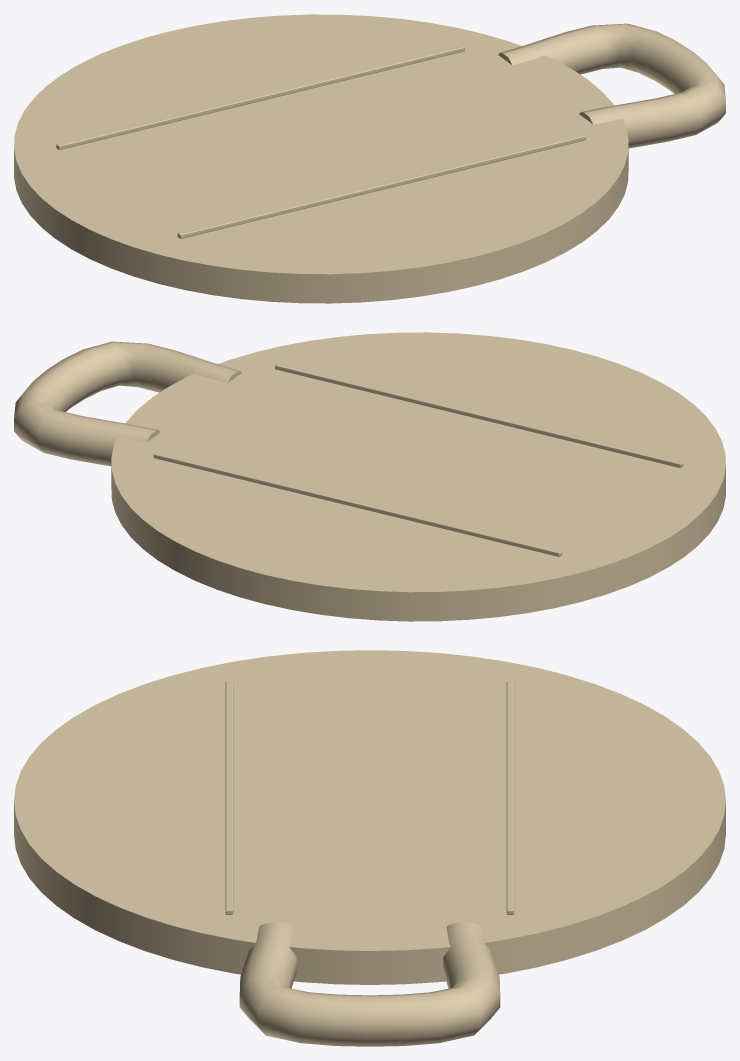
File: cheesemaking-and-dairy-cellar-wheel-turning-board-ef392a31__30887.glb
3 views of the same model, one above another, from view 1: azimuth 30°, elevation 25°; view 2: azimuth 150°, elevation 25°; view 3: azimuth 270°, elevation 25° (orthographic). The views are drawn at different scales.
Parts seen in each view (by area): view 1: wheel-turning-board; view 2: wheel-turning-board; view 3: wheel-turning-board.
Part boxes in pixels (x1,y1,x2,y2): wheel-turning-board: [14, 14, 725, 303]; wheel-turning-board: [14, 332, 725, 621]; wheel-turning-board: [14, 650, 725, 1046].
Bounding box in the file's own units: 0.4603 × 0.028 × 0.38.
